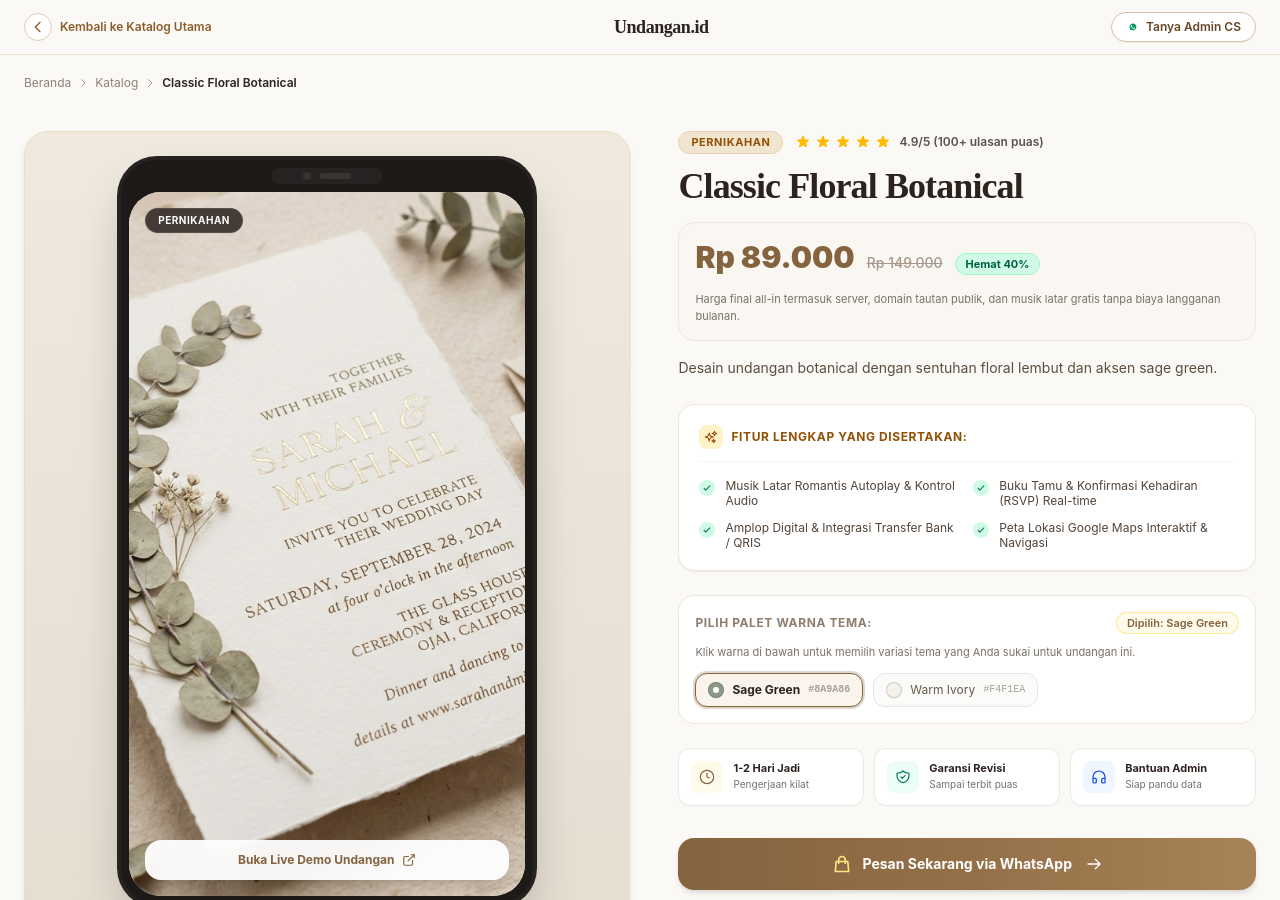
Scenario: Public Template Detail View & Order Form › opens the simple order modal when 'Pesan Sekarang' is clicked
Click the button "Pesan Sekarang via WhatsApp" at point(967, 864), box [678,838,1256,890]
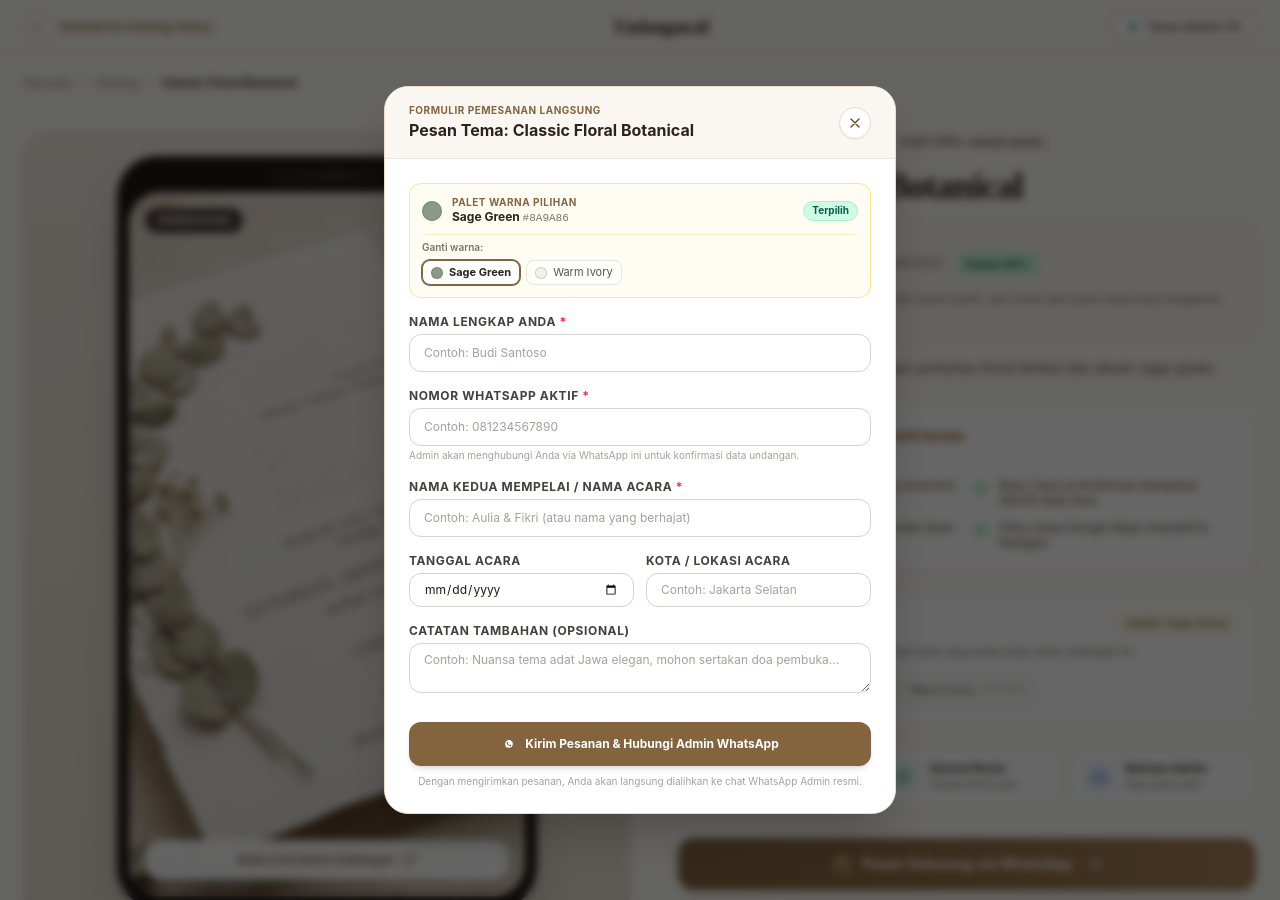
Check: the dialog is shown
Check: the field labelled "Nama Lengkap Anda *" is shown, box [409,334,871,372]
Check: the field labelled "Nomor WhatsApp Aktif *" is shown, box [409,408,871,446]
